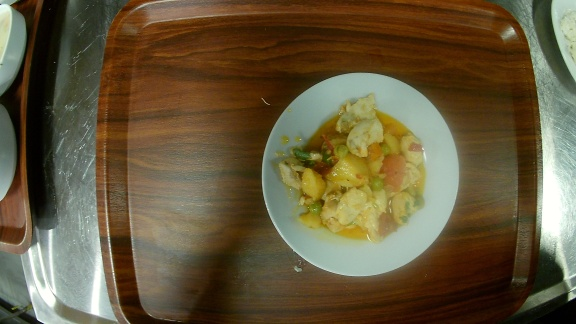bezelyelitavuk: (260, 71, 461, 279)
